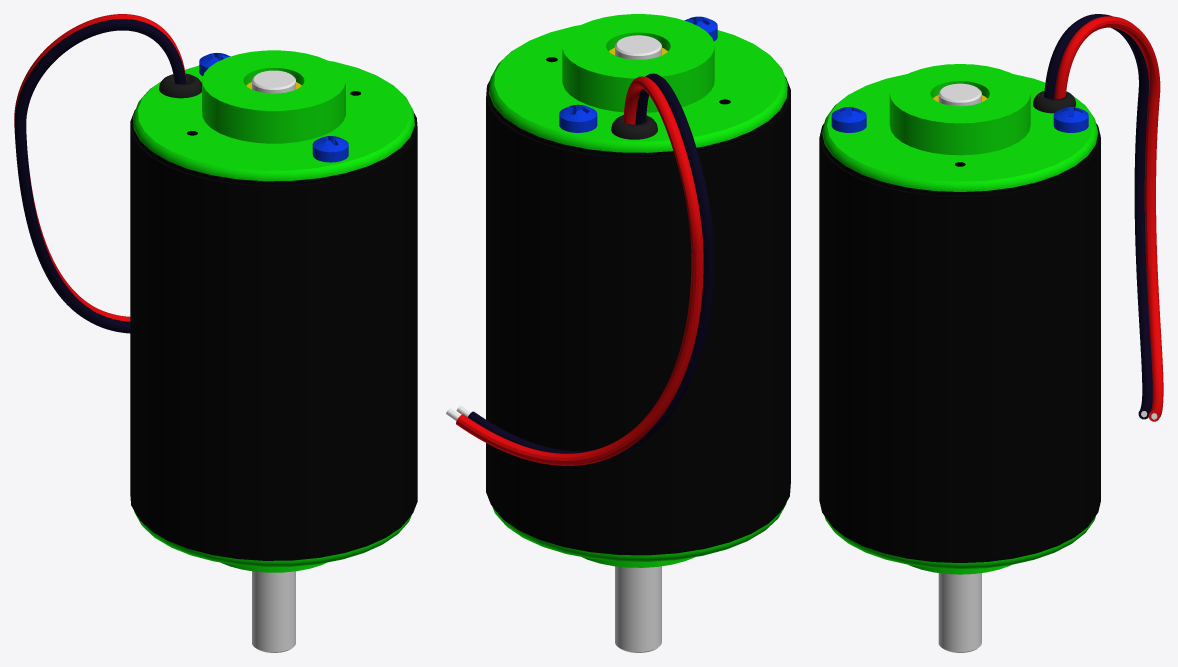
File: SPINDLE.fbx
3 renders of one model, left to right at view 1: azimuth 30°, elevation 25°; view 2: azimuth 150°, elevation 25°; view 3: azimuth 270°, elevation 25°, orthographic. The views are drawn at different scales.
Visible parts, largest first — view 1: spindle, BezierCurve, Cylinder.001; view 2: spindle, BezierCurve, Cylinder.001; view 3: spindle, BezierCurve, Cylinder.001.
Part boxes in pixels (box(x1,y1,x2,y2)): spindle: box(130, 50, 417, 652); BezierCurve: box(14, 14, 186, 333); Cylinder.001: box(159, 73, 201, 98); spindle: box(486, 14, 790, 652); BezierCurve: box(446, 73, 714, 465); Cylinder.001: box(611, 115, 657, 139); spindle: box(819, 64, 1100, 652); BezierCurve: box(1044, 14, 1163, 421); Cylinder.001: box(1033, 90, 1075, 113).
Size of the model in its own units: 6.03 by 11.94 by 6.36.
